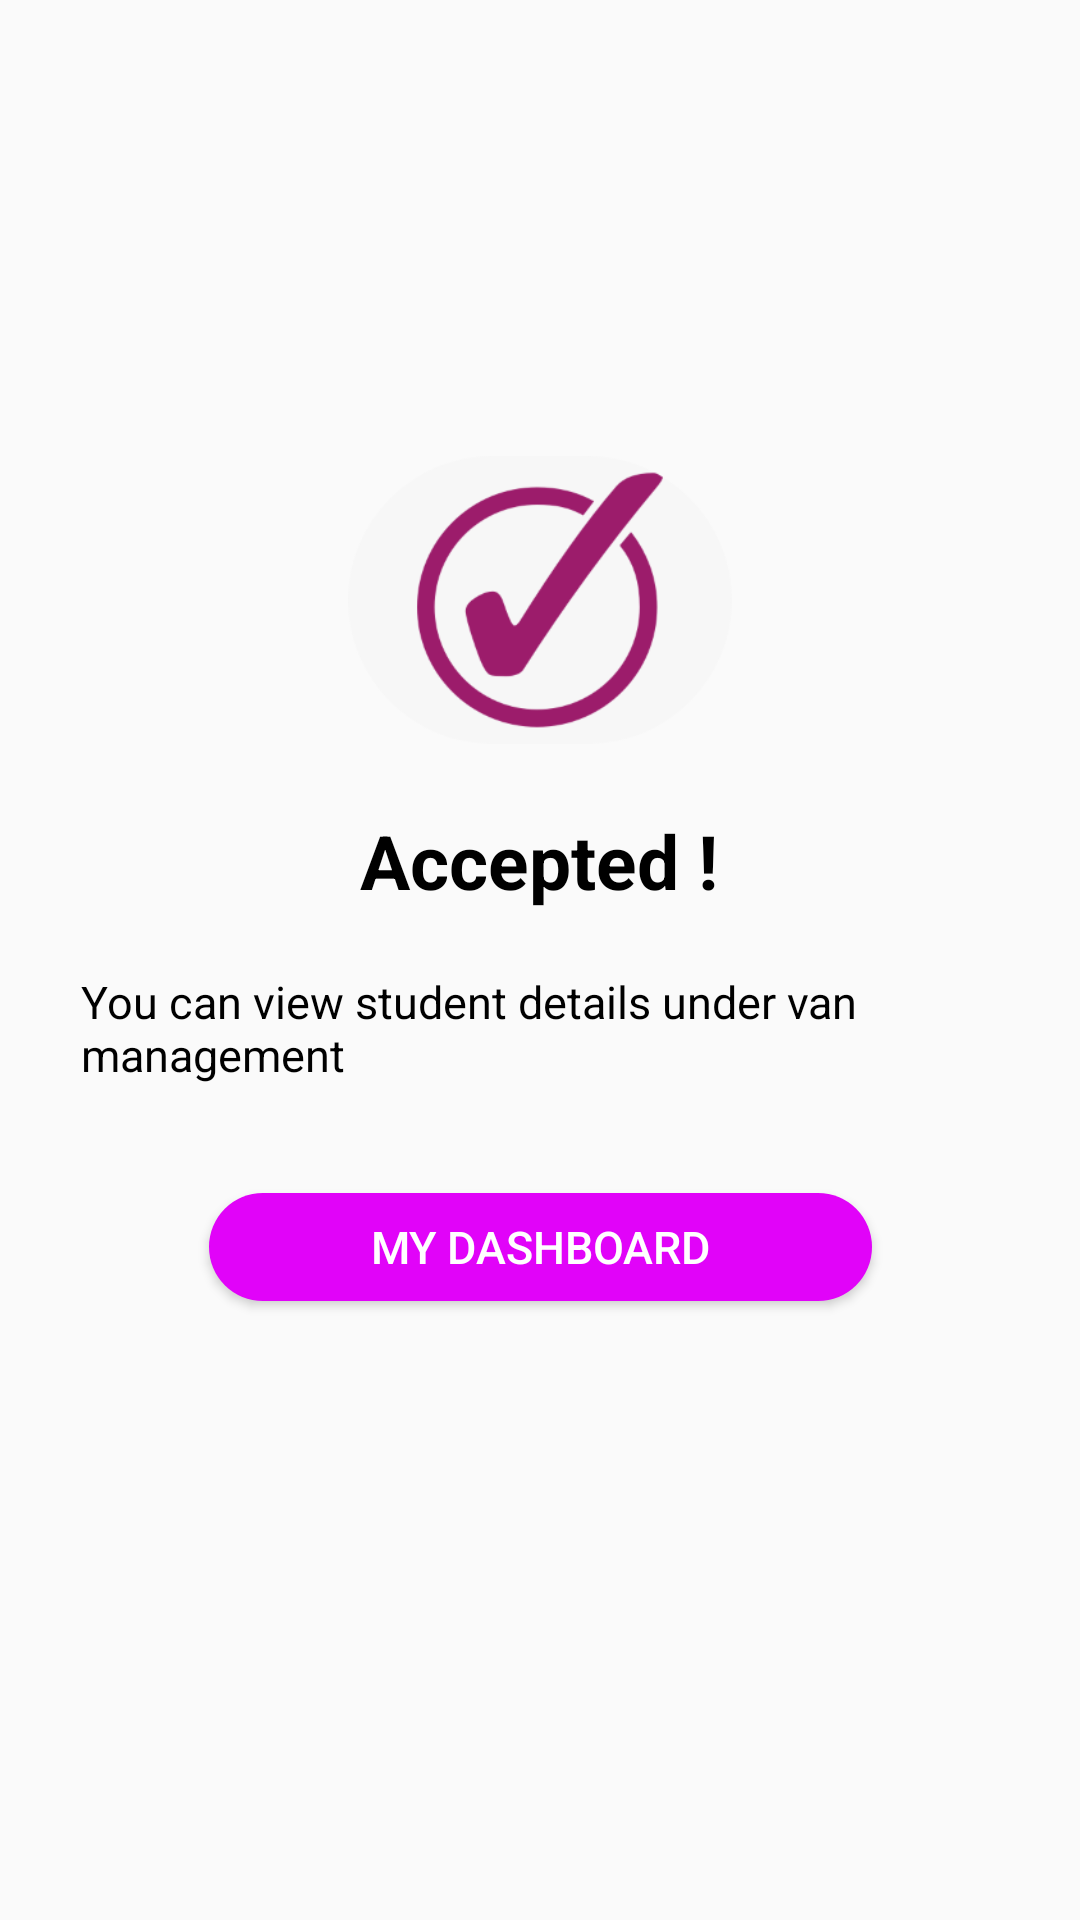

Icons on this 1080px x 1920px Android screen, each with the point to tap as (x,y):
tick in circle: (540,600)
